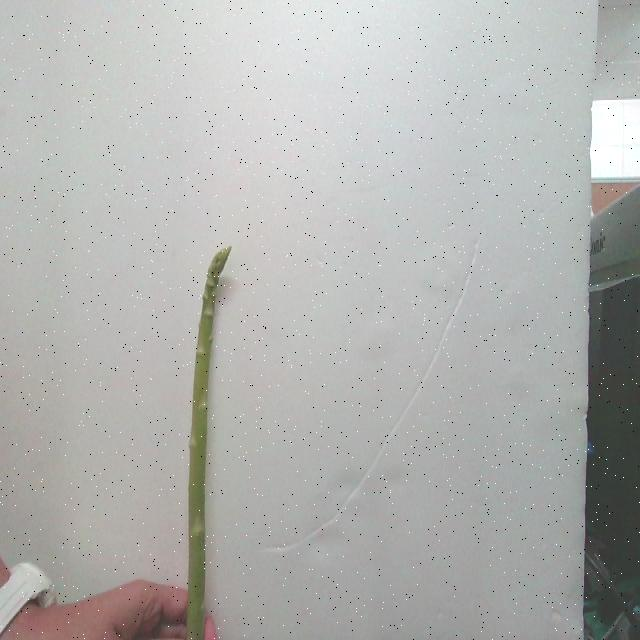aspargus: (185, 248, 231, 640)
